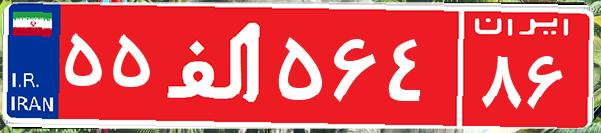4: (385, 28, 445, 110)
5: (273, 28, 330, 110), (57, 26, 110, 107), (110, 28, 158, 105)
6: (330, 28, 385, 110), (525, 38, 570, 115)
8: (475, 38, 525, 113)
الف: (158, 15, 273, 115)
